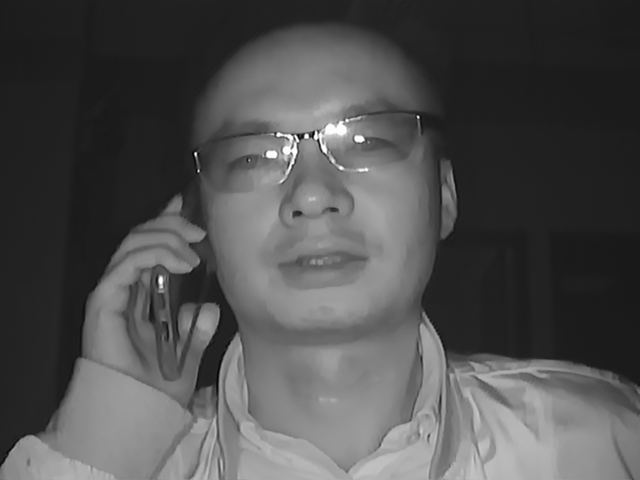hand: (91, 207, 220, 393)
